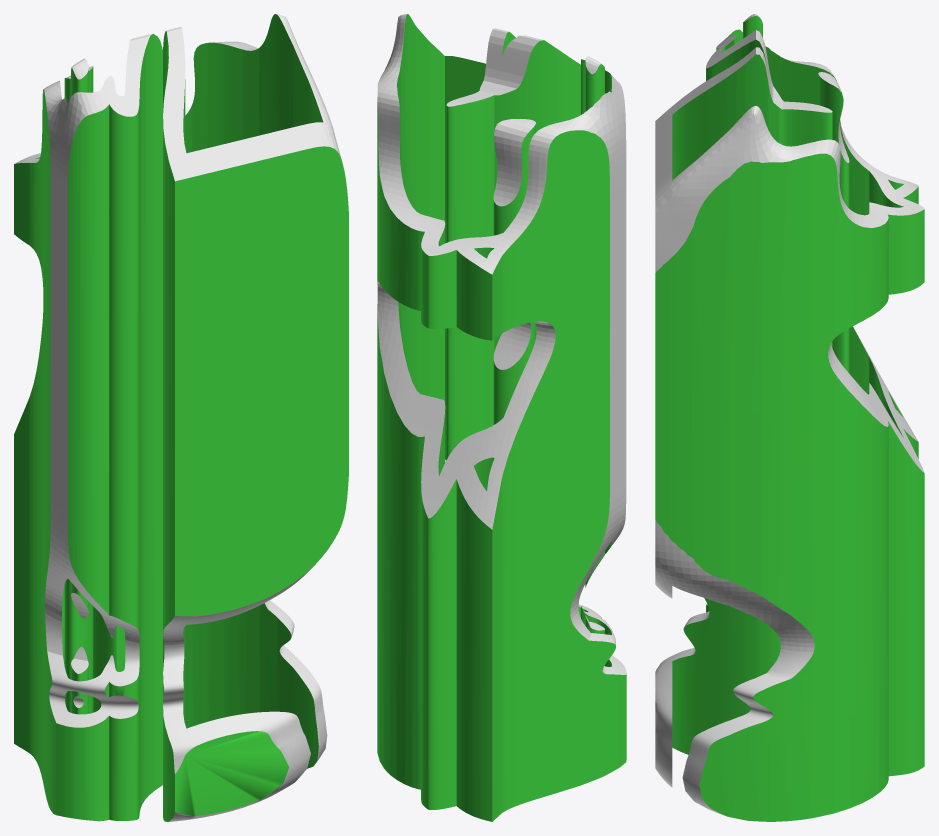
Rendered from White_Knight.fbx.
The picture shows the model from 3 angles, left to right: view 1: azimuth 30°, elevation 25°; view 2: azimuth 150°, elevation 25°; view 3: azimuth 270°, elevation 25°; orthographic projection. The views are drawn at different scales.
Visible parts, largest first — view 1: White_Knight; view 2: White_Knight; view 3: White_Knight.
Boxes of the visible parts, x1,y1,x2,y2 form: White_Knight: (14, 14, 348, 821); White_Knight: (377, 14, 626, 821); White_Knight: (655, 14, 924, 821).
Size of the model in its own units: 40.5 by 40.09 by 118.
